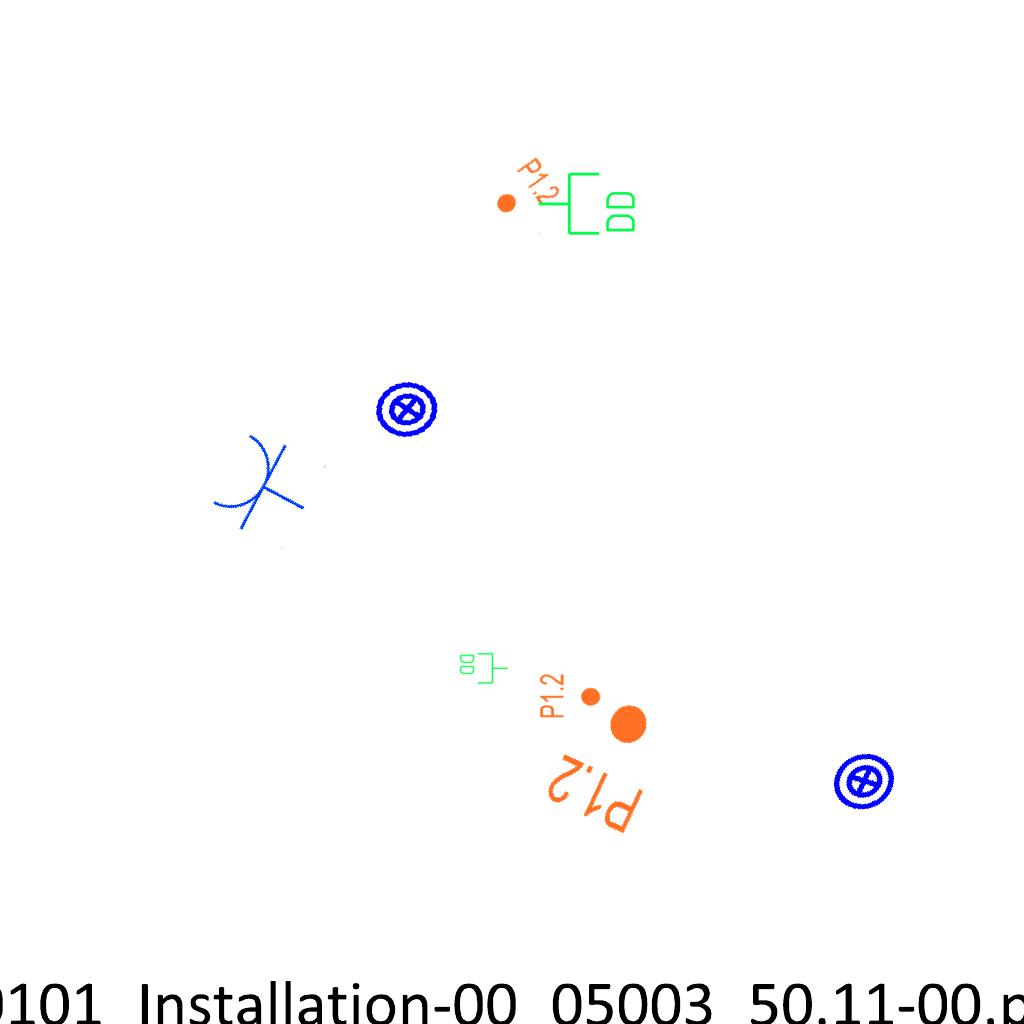Datenanschluss_zweifach: (536, 170, 639, 239), (458, 651, 509, 685)
Downlight_LED_Einbauleuchten_Flur: (540, 683, 679, 839), (484, 154, 564, 230), (538, 673, 602, 719)
Schukosteckdose_einfach: (204, 422, 328, 553)
Taster_beleuchtet: (820, 737, 908, 825), (369, 371, 445, 447)
